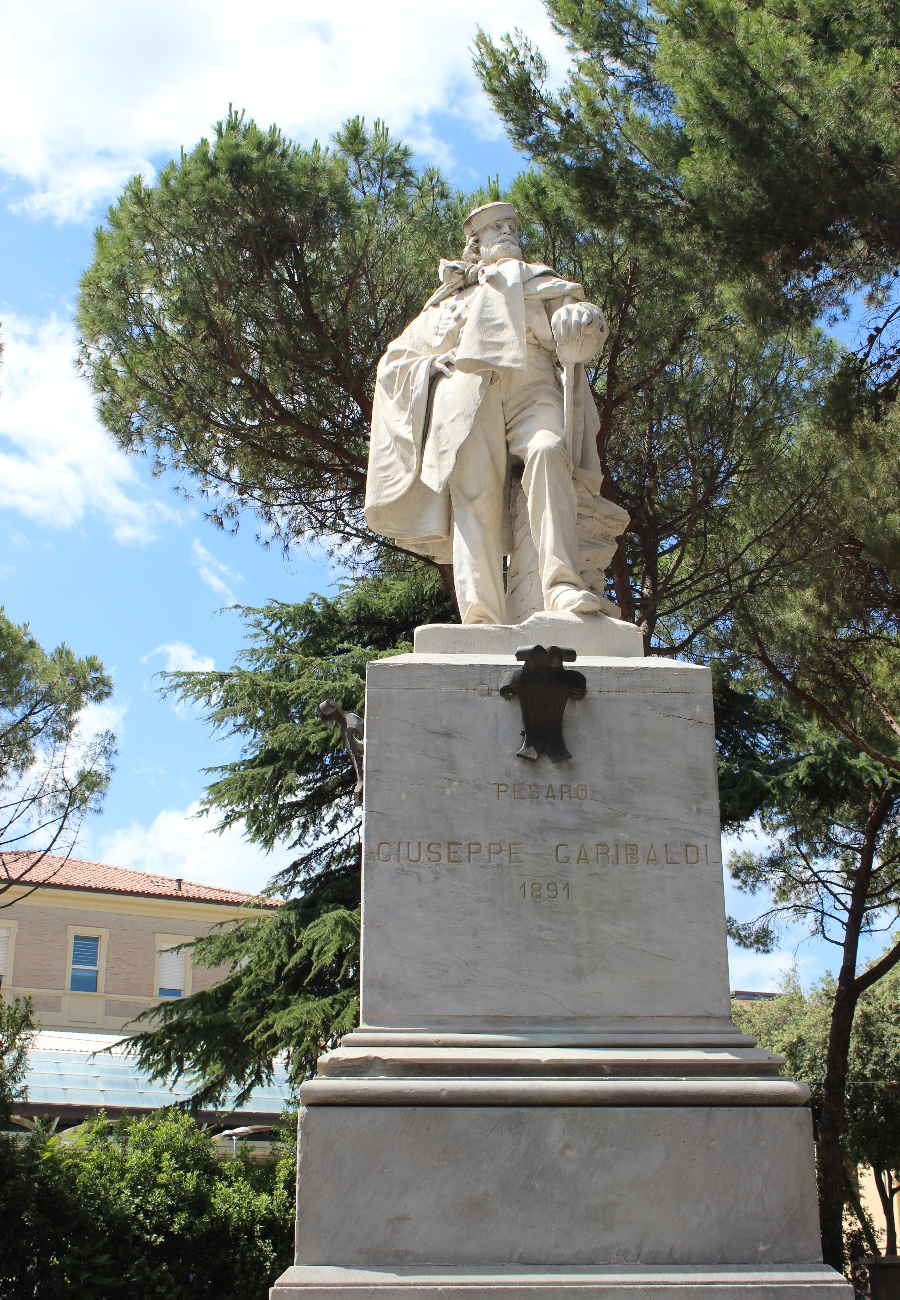Giuseppe Garibaldi: (362, 201, 606, 625)
